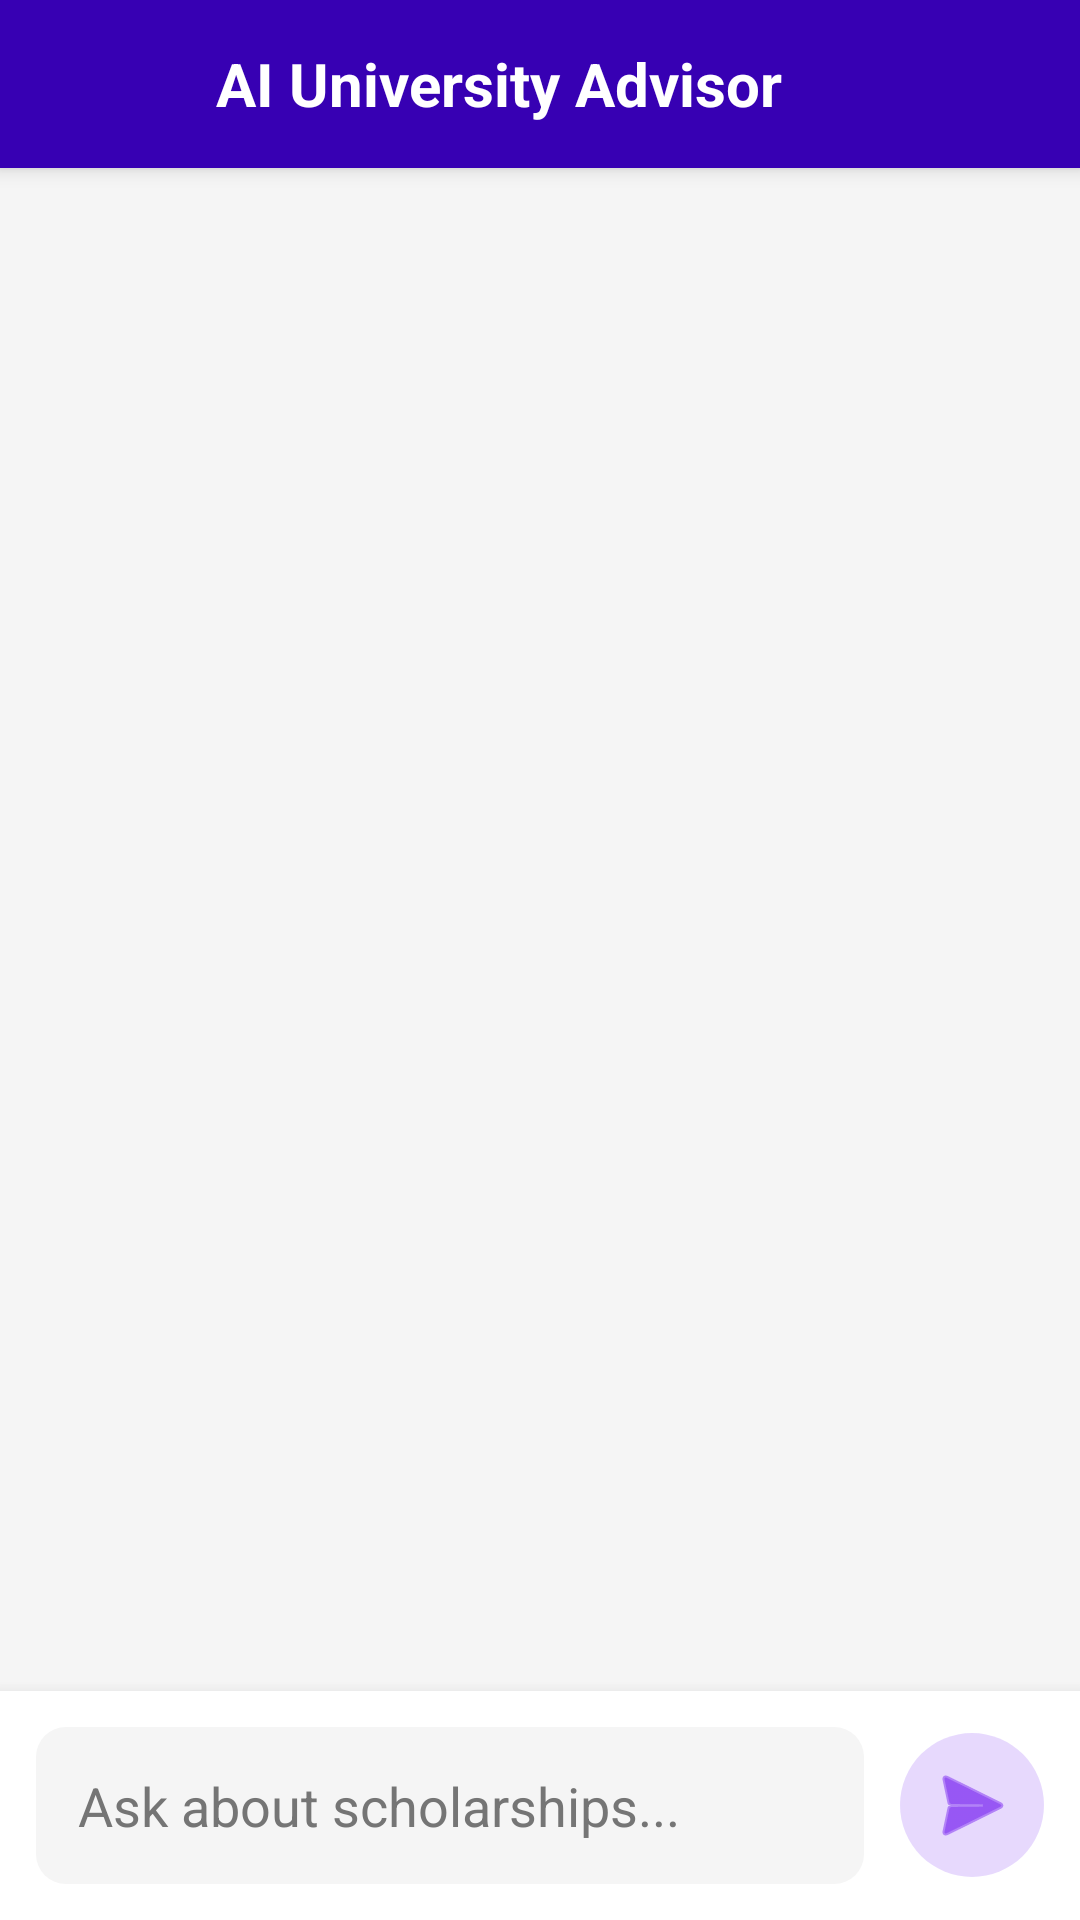

Point at icon controls on the screen. Image size 1080 x 1920, points as (x=x, y=y).
Send: (x=972, y=1805)
